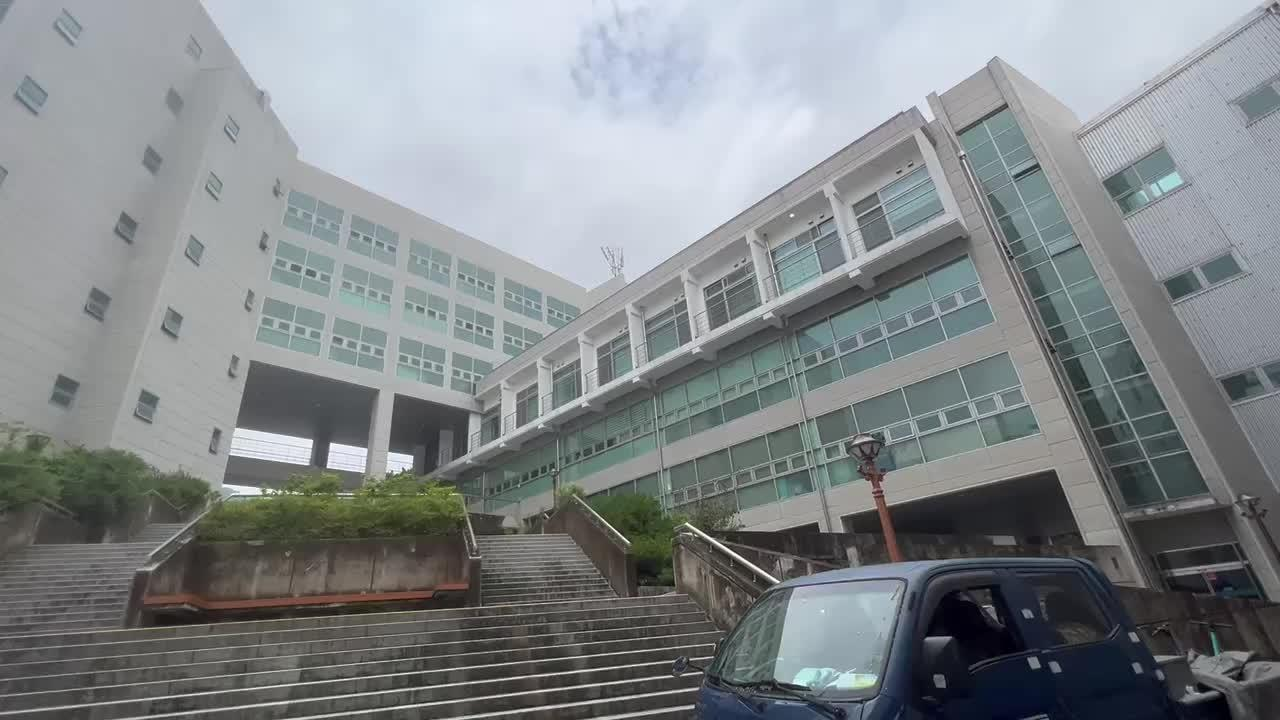building: (30, 49, 1263, 498)
